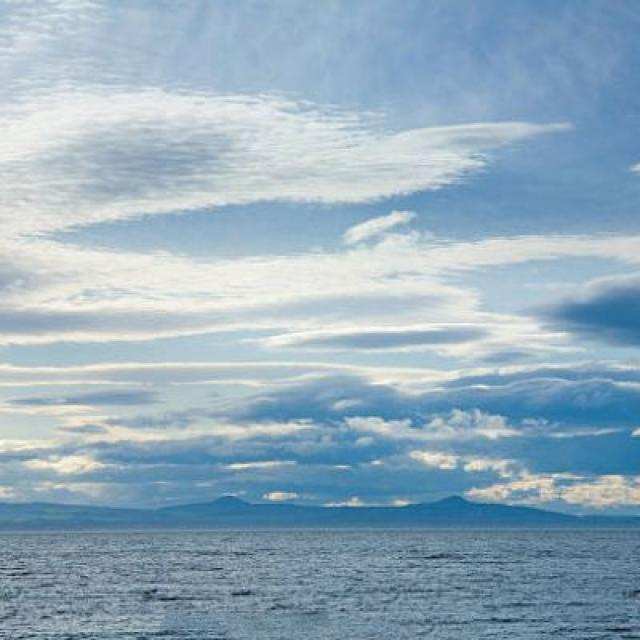Cc: (2, 57, 519, 357)
